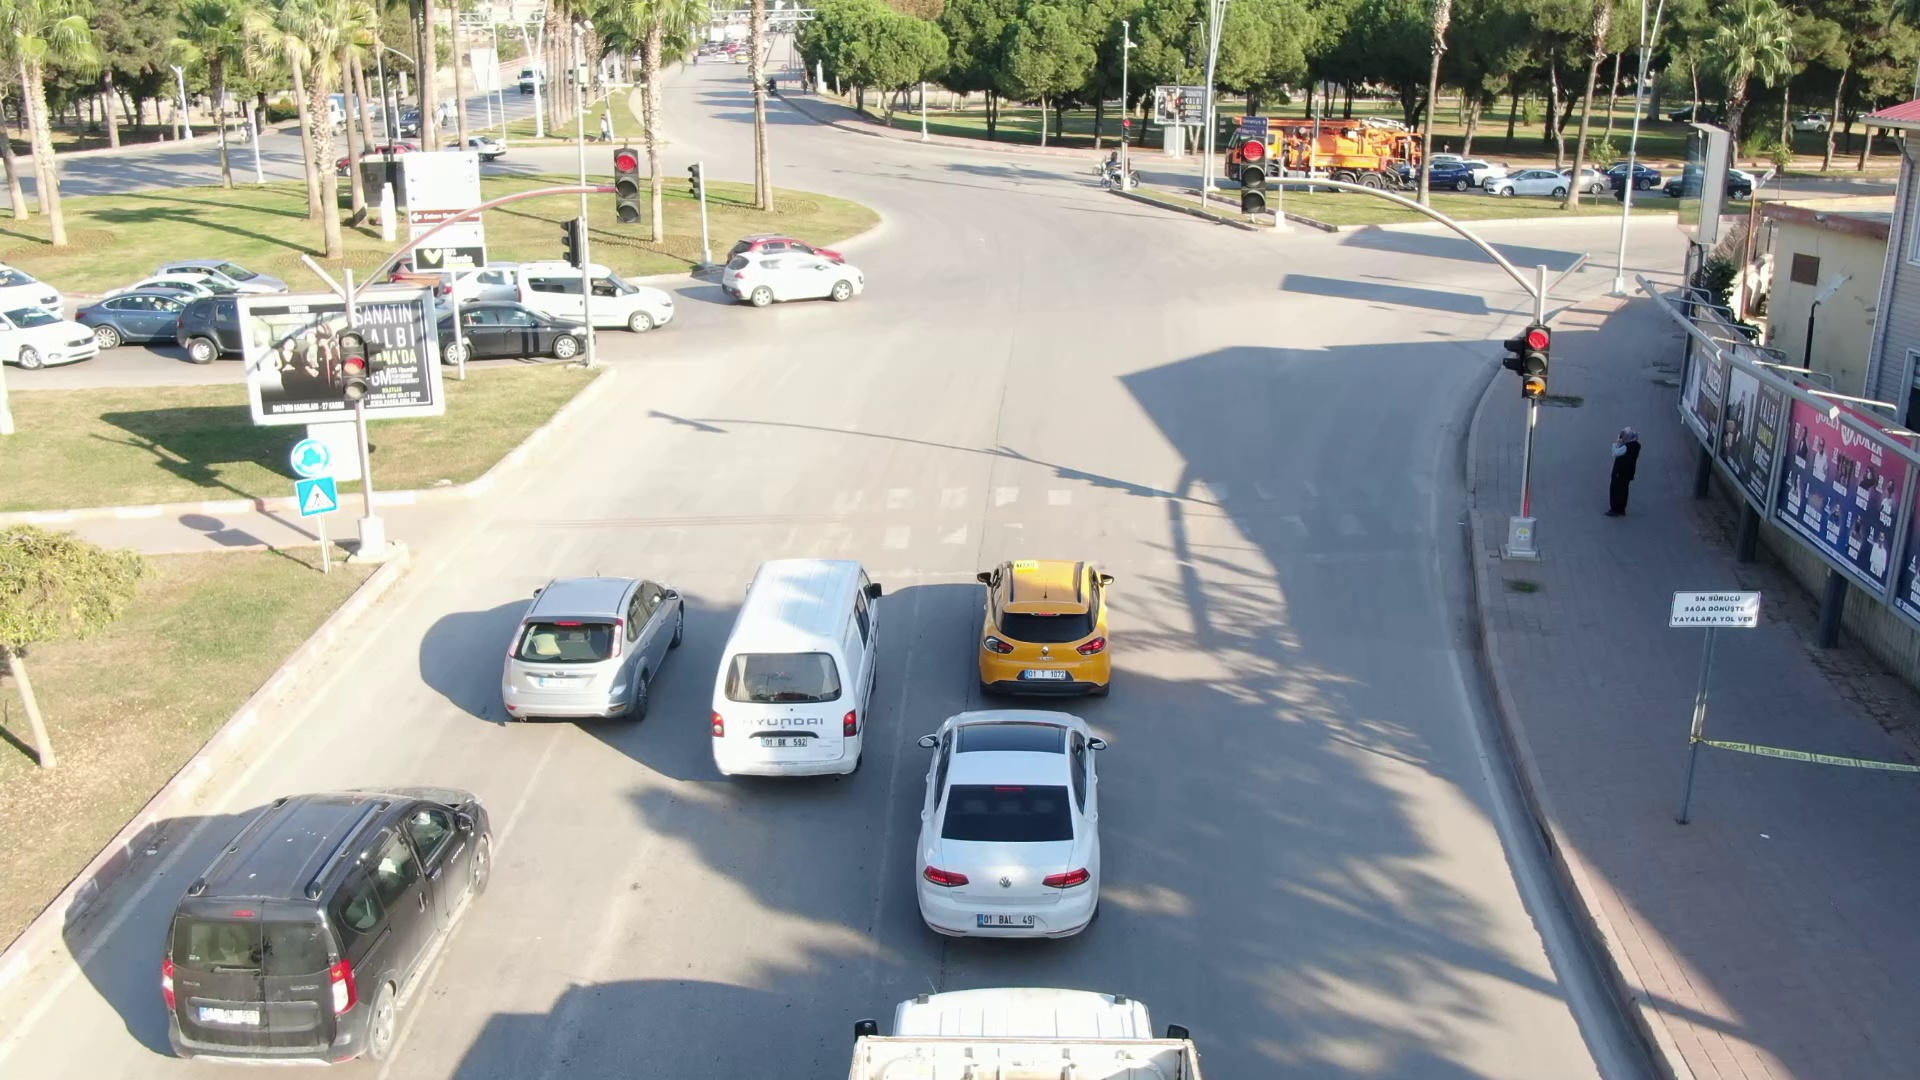car: (153, 782, 502, 1065), (906, 706, 1108, 949), (704, 550, 882, 788), (502, 568, 694, 737), (972, 551, 1129, 704), (504, 257, 668, 333), (719, 241, 865, 306)
person: (1600, 406, 1645, 527)
